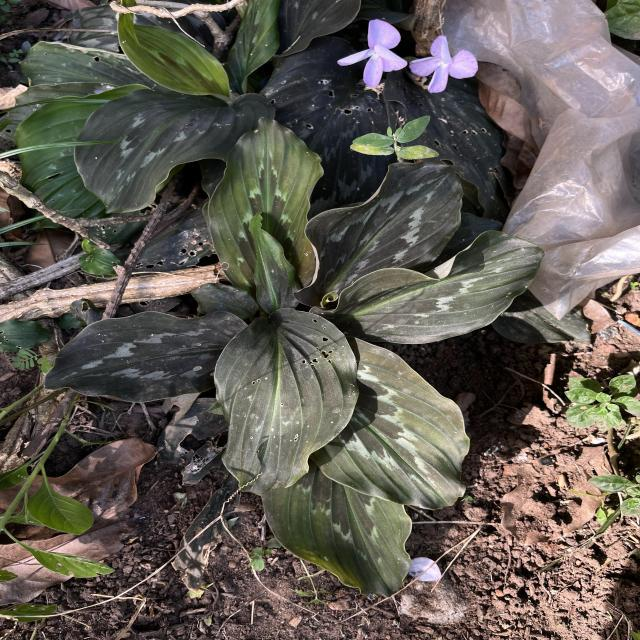Kaempferia galanga linn: (210, 310, 360, 504), (290, 160, 465, 312), (338, 229, 546, 346), (202, 112, 328, 290), (41, 306, 246, 407), (111, 12, 236, 102)
